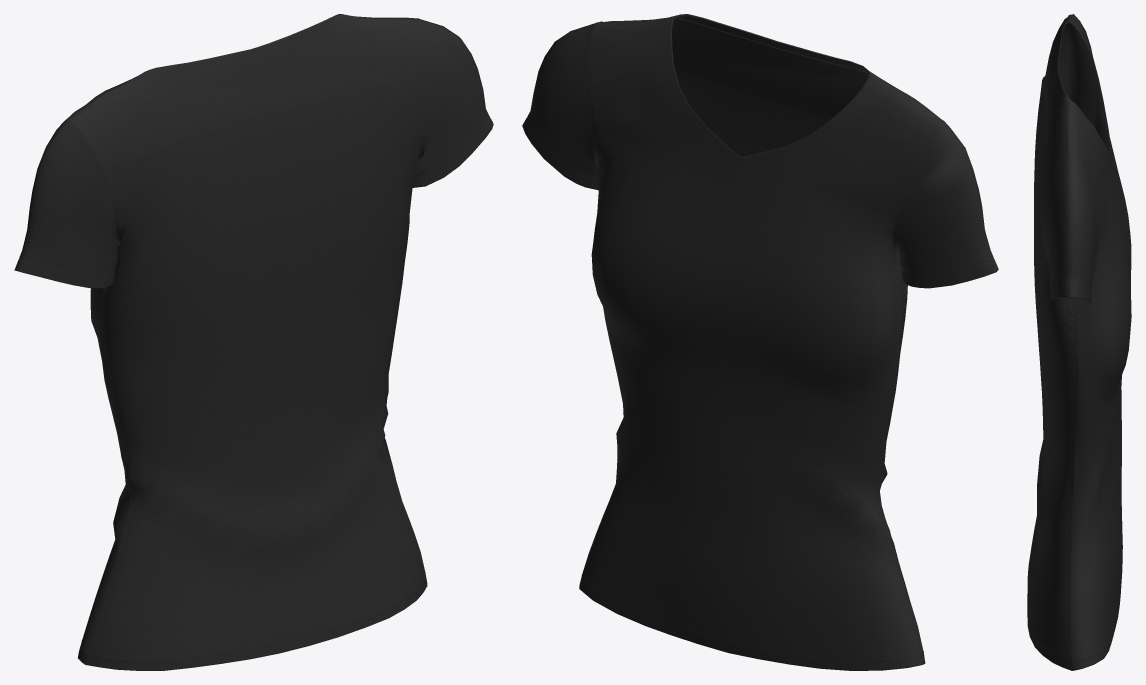
Rendered from T_Shirt_female009.fbx.
The picture shows the model from 3 angles, left to right: view 1: azimuth 30°, elevation 25°; view 2: azimuth 150°, elevation 25°; view 3: azimuth 270°, elevation 25°; orthographic projection. The views are drawn at different scales.
Visible parts, largest first — view 1: T_Shirt_female009; view 2: T_Shirt_female009; view 3: T_Shirt_female009.
Part boxes in pixels (left/top/right/bottom): T_Shirt_female009: left=14, top=14, right=493, bottom=670; T_Shirt_female009: left=522, top=14, right=998, bottom=670; T_Shirt_female009: left=1027, top=14, right=1131, bottom=670.
Bounding box in the file's own units: 13.91 × 16.8 × 2.92.
